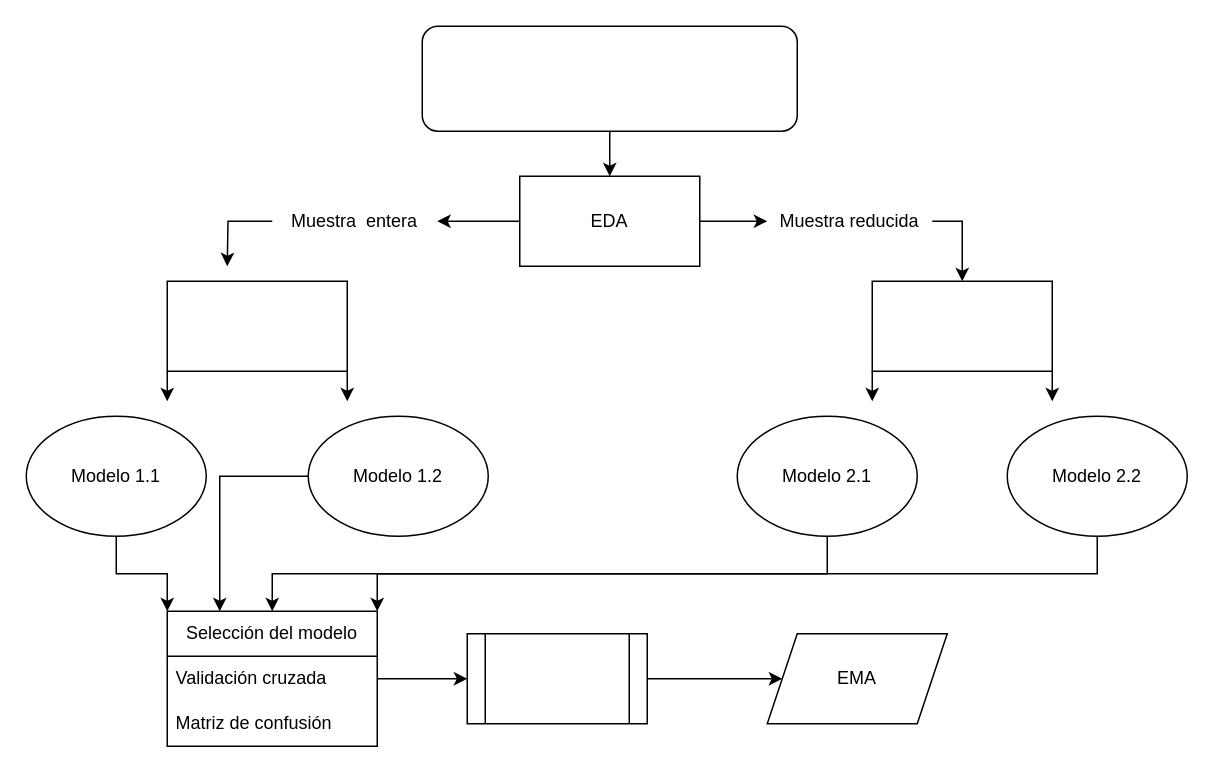
Some shapes in this 1214 by 773 pixel diagram are drawn without their labels. The shapes that lost their labels are listed below. From the top down, each one's centre as x and y in pixels, then its label:
At point (609, 78): "Modelado".
At point (256, 325): "Modelado 1".
At point (961, 325): "Modelado 2".
At point (556, 678): "Modelo aplicado (predicciones)".
